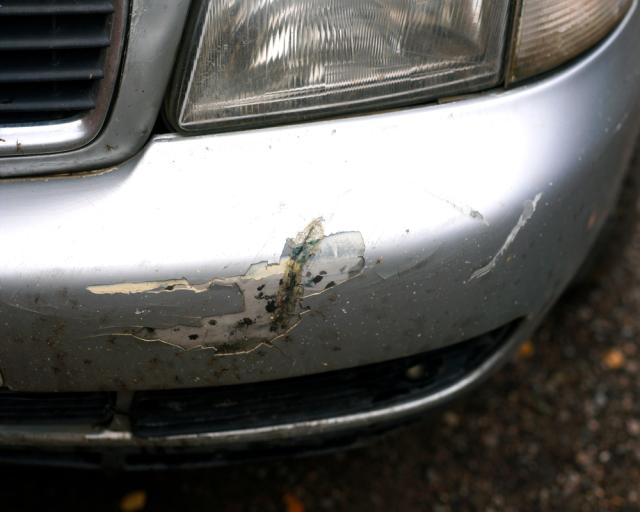scratch: (47, 215, 373, 363), (462, 187, 545, 284)
